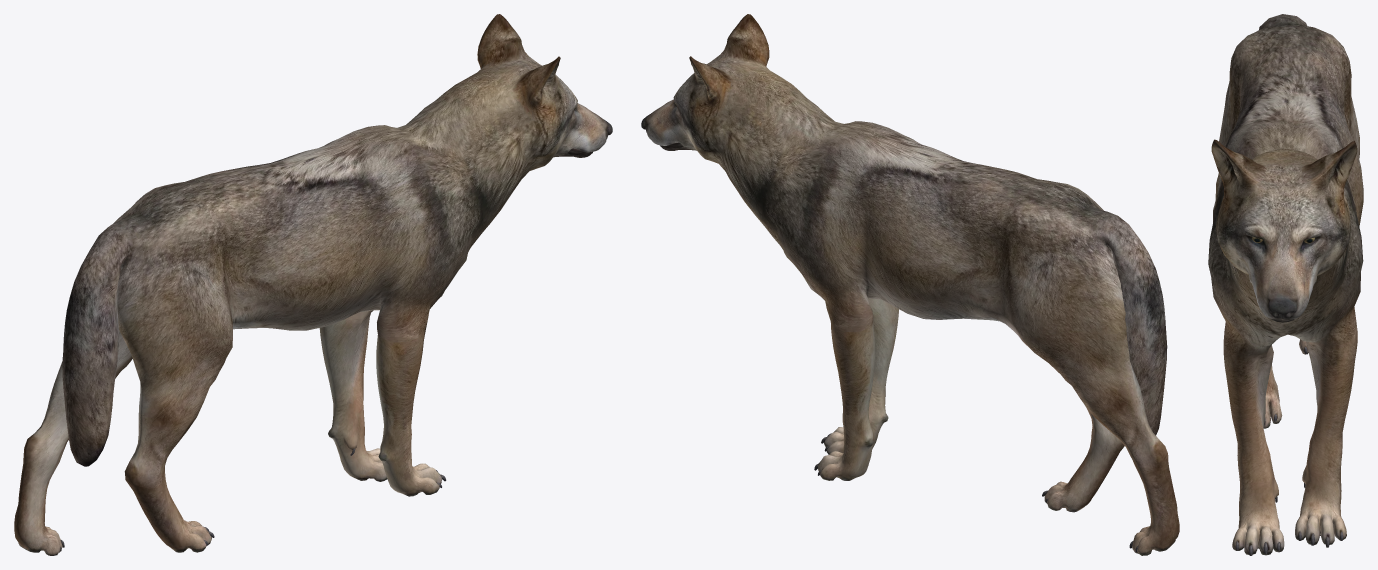
File: lobo.glb
3 renders of one model, left to right at view 1: azimuth 30°, elevation 25°; view 2: azimuth 150°, elevation 25°; view 3: azimuth 270°, elevation 25°, orthographic. The views are drawn at different scales.
Parts seen in each view (by area): view 1: Wolf.001_applied_clean_M_Wolf_0; view 2: Wolf.001_applied_clean_M_Wolf_0; view 3: Wolf.001_applied_clean_M_Wolf_0.
Boxes of the visible parts, bbox=[...] form: Wolf.001_applied_clean_M_Wolf_0: bbox=[14, 14, 612, 555]; Wolf.001_applied_clean_M_Wolf_0: bbox=[641, 14, 1179, 555]; Wolf.001_applied_clean_M_Wolf_0: bbox=[1208, 14, 1363, 555].
Bounding box in the file's own units: 2 × 1.39 × 0.4081.
Materials: 1 (1 with a texture image).
